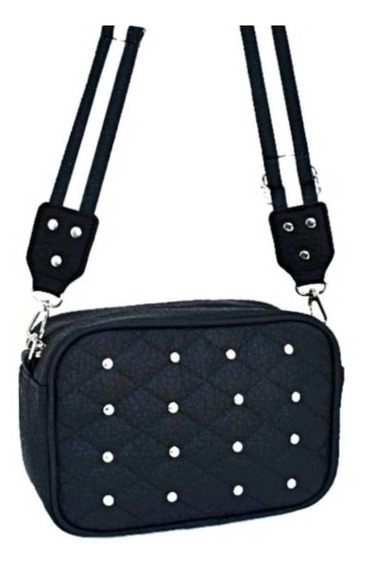cartera: (15, 22, 347, 537)
